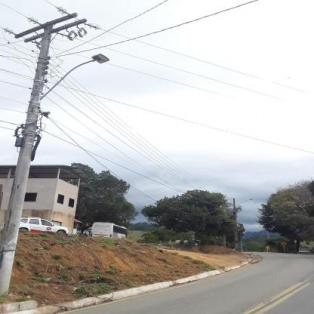Poste: (0, 21, 57, 298)
